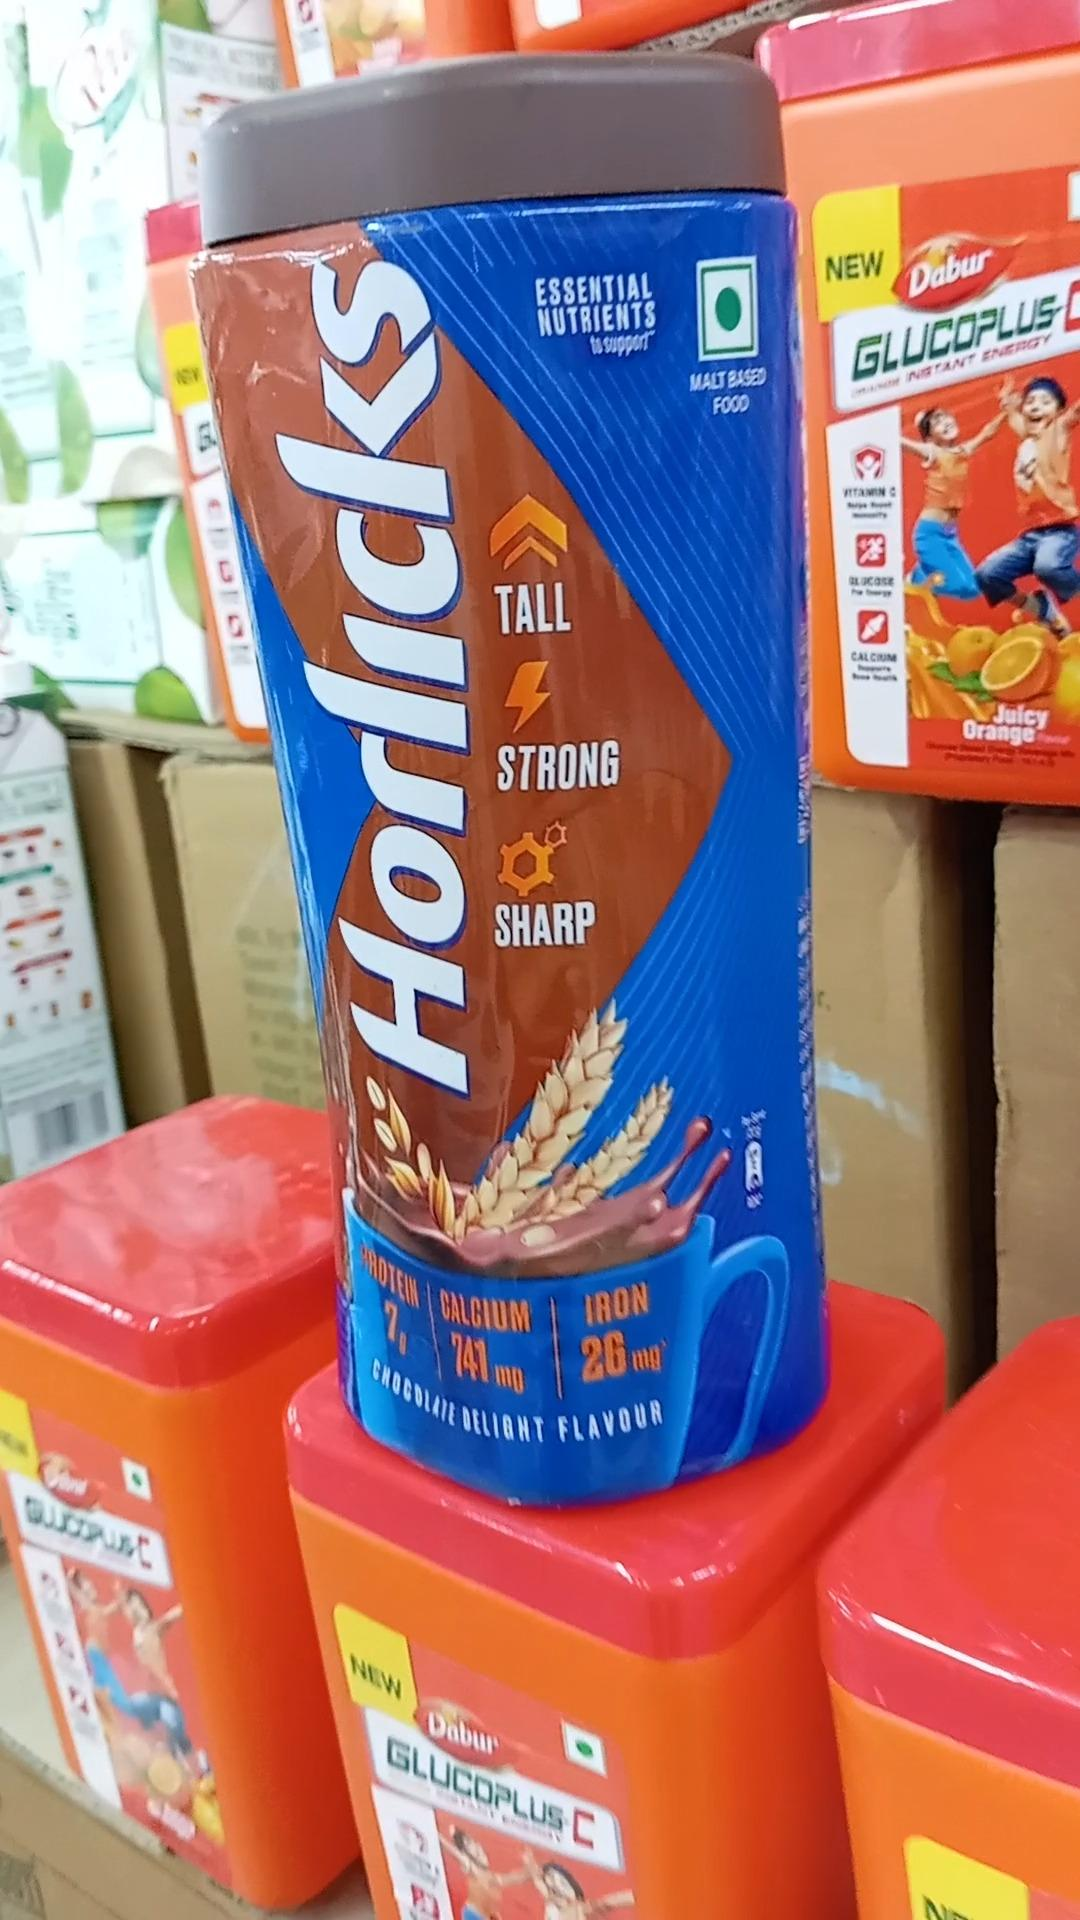HORLICK_CHOCOLATE_1_KG_JAR: (190, 70, 836, 1507)
